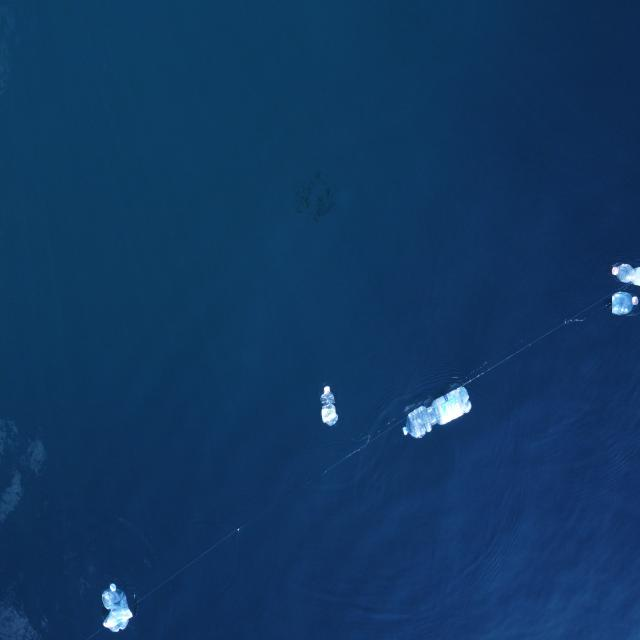bottles: (401, 386, 471, 440), (102, 581, 134, 634), (320, 385, 338, 426), (612, 290, 640, 316), (611, 263, 640, 287)
